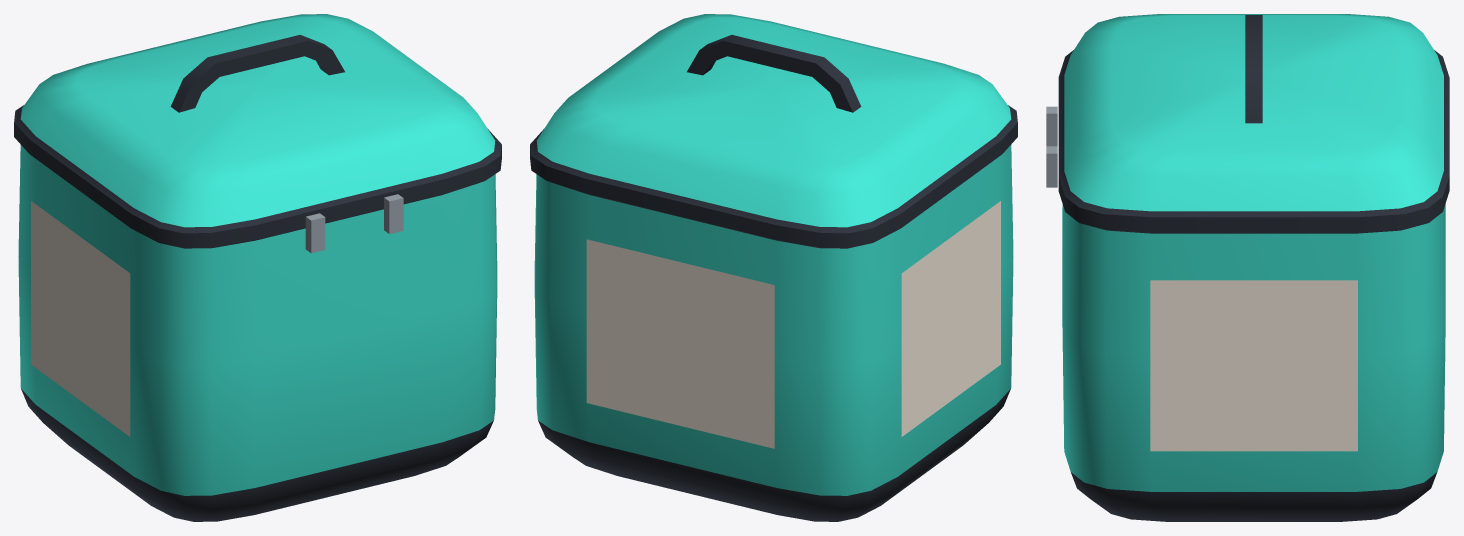
The model's file is gear_bag.glb.
3 renders of one model, left to right at view 1: azimuth 30°, elevation 25°; view 2: azimuth 150°, elevation 25°; view 3: azimuth 270°, elevation 25°, orthographic. The views are drawn at different scales.
Parts seen in each view (by area): view 1: bag; view 2: bag; view 3: bag.
Part boxes in pixels (x1,y1,x2,y2): bag: [14, 14, 501, 521]; bag: [530, 14, 1017, 521]; bag: [1046, 14, 1449, 521].
Bounding box in the file's own units: 0.4541 × 0.4769 × 0.4271.
